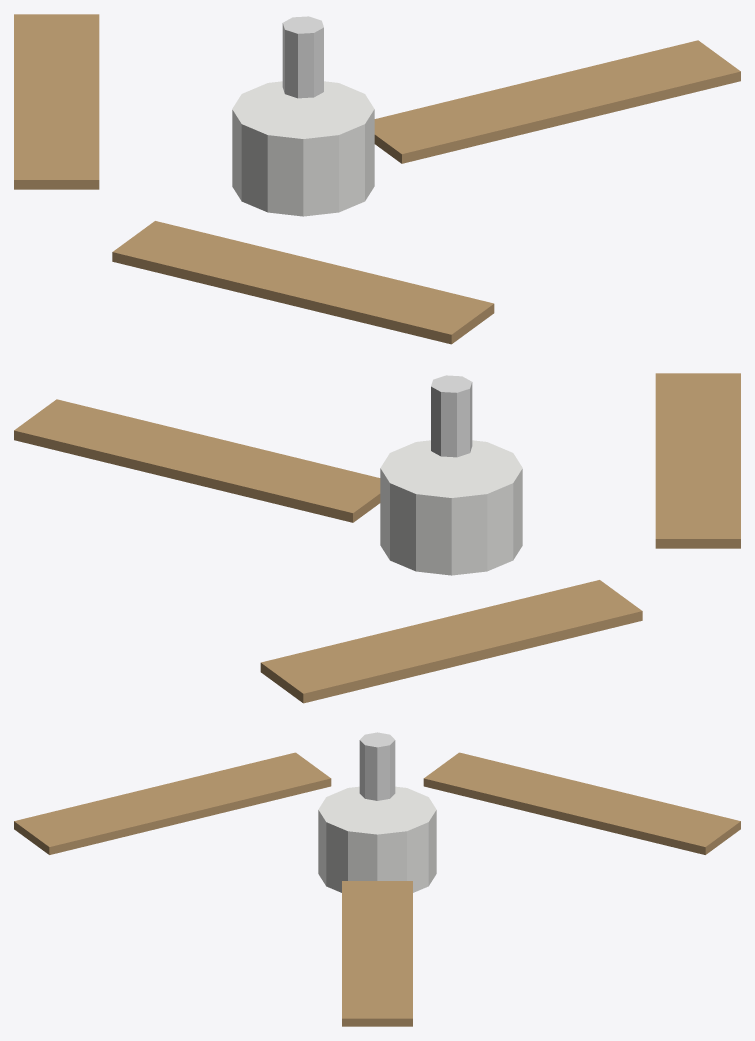
Rendered from ceiling-fan.glb.
3 views of the same model, one above another, from view 1: azimuth 30°, elevation 25°; view 2: azimuth 150°, elevation 25°; view 3: azimuth 270°, elevation 25° (orthographic). The views are drawn at different scales.
Parts seen in each view (by area): view 1: ceiling-fan_Cube.001, ceiling-fan_Cube, ceiling-fan_Cylinder.001, ceiling-fan_Cube.002, ceiling-fan_Cylinder; view 2: ceiling-fan_Cube.002, ceiling-fan_Cube, ceiling-fan_Cylinder.001, ceiling-fan_Cube.001, ceiling-fan_Cylinder; view 3: ceiling-fan_Cube.001, ceiling-fan_Cube.002, ceiling-fan_Cylinder.001, ceiling-fan_Cube, ceiling-fan_Cylinder.
Part boxes in pixels (bbox=[...]): ceiling-fan_Cube.001: bbox=[112, 221, 494, 344]; ceiling-fan_Cube: bbox=[374, 40, 740, 163]; ceiling-fan_Cylinder.001: bbox=[232, 81, 374, 216]; ceiling-fan_Cube.002: bbox=[14, 14, 99, 189]; ceiling-fan_Cylinder: bbox=[282, 16, 323, 98]; ceiling-fan_Cube.002: bbox=[260, 580, 642, 703]; ceiling-fan_Cube: bbox=[14, 399, 380, 522]; ceiling-fan_Cylinder.001: bbox=[380, 440, 522, 575]; ceiling-fan_Cube.001: bbox=[655, 373, 740, 548]; ceiling-fan_Cylinder: bbox=[431, 375, 472, 457]; ceiling-fan_Cube.001: bbox=[14, 752, 331, 854]; ceiling-fan_Cube.002: bbox=[423, 752, 740, 854]; ceiling-fan_Cylinder.001: bbox=[318, 786, 436, 892]; ceiling-fan_Cube: bbox=[342, 881, 412, 1026]; ceiling-fan_Cylinder: bbox=[359, 732, 395, 800].
Size of the model in its own units: 1.06 by 0.27 by 1.23.
